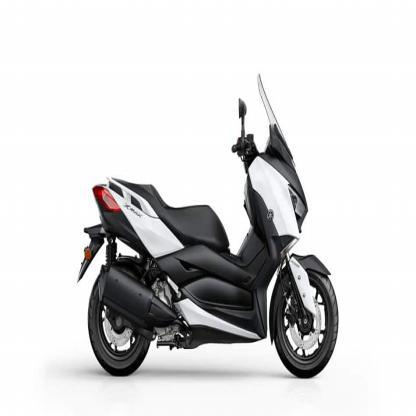Motorcycle: (73, 71, 342, 382)
